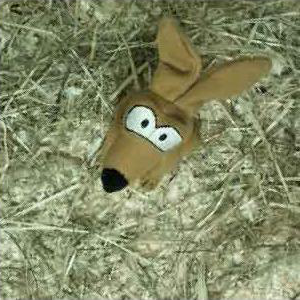dog: (96, 12, 273, 195)
